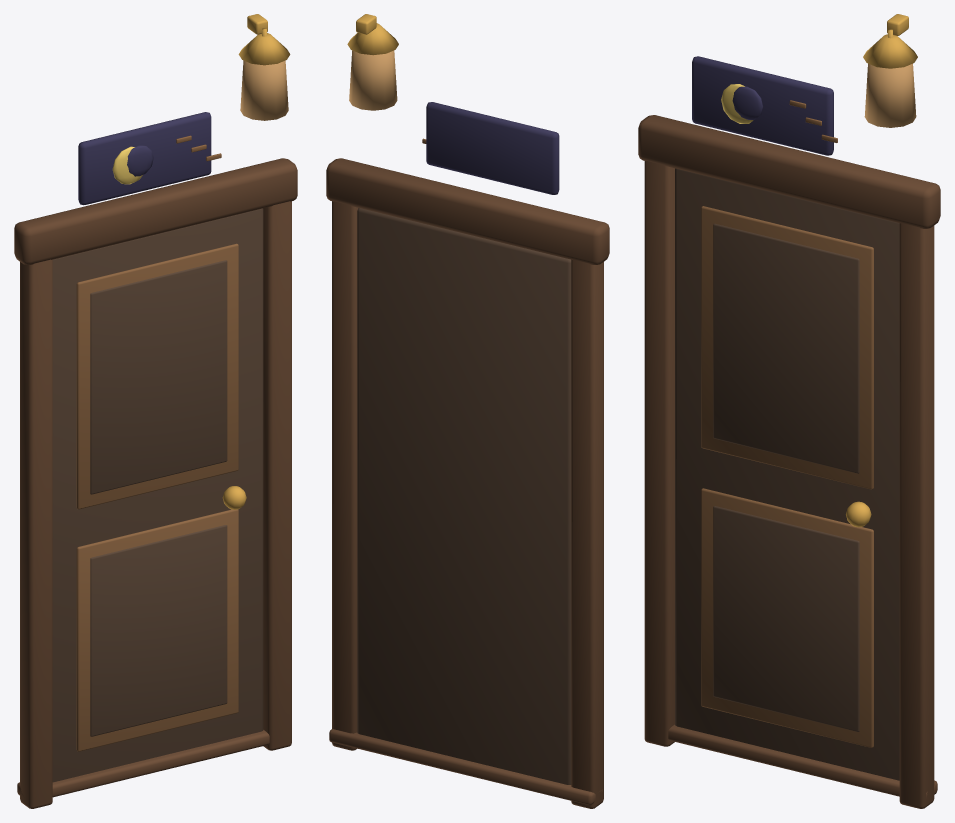
File: cellar-door.glb
3 renders of one model, left to right at view 1: azimuth 30°, elevation 25°; view 2: azimuth 150°, elevation 25°; view 3: azimuth 330°, elevation 25°, orthographic. The views are drawn at different scales.
Visible parts, largest first — view 1: door, sign, lamp; view 2: door, sign, lamp; view 3: door, sign, lamp.
Part boxes in pixels (left/top/right/bottom): door: left=14, top=158, right=297, bottom=808; sign: left=78, top=112, right=221, bottom=205; lamp: left=238, top=14, right=290, bottom=120; door: left=326, top=158, right=609, bottom=808; sign: left=422, top=102, right=559, bottom=194; lamp: left=347, top=14, right=398, bottom=110; door: left=638, top=115, right=940, bottom=808; sign: left=692, top=56, right=837, bottom=155; lamp: left=863, top=14, right=917, bottom=127.
Size of the model in its own units: 0.92 by 2.34 by 0.165.
